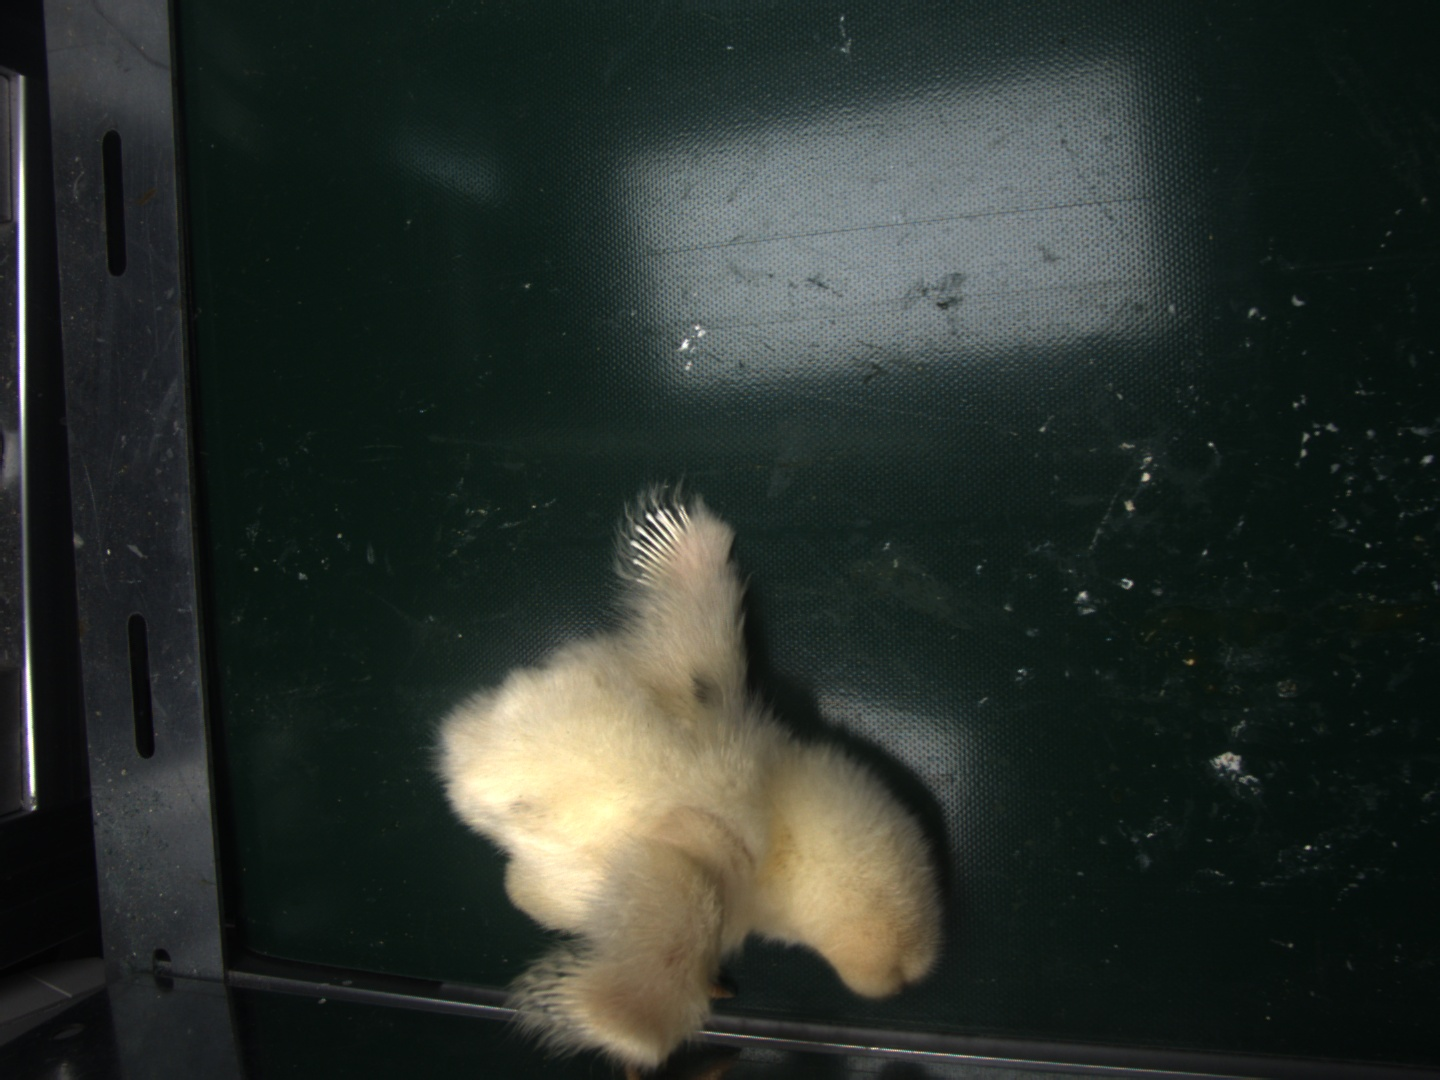male: (629, 505, 691, 579)
